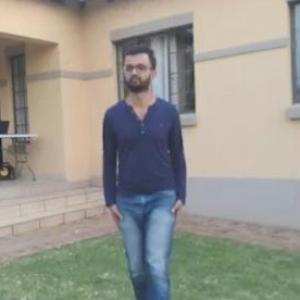follow: (98, 36, 190, 299)
